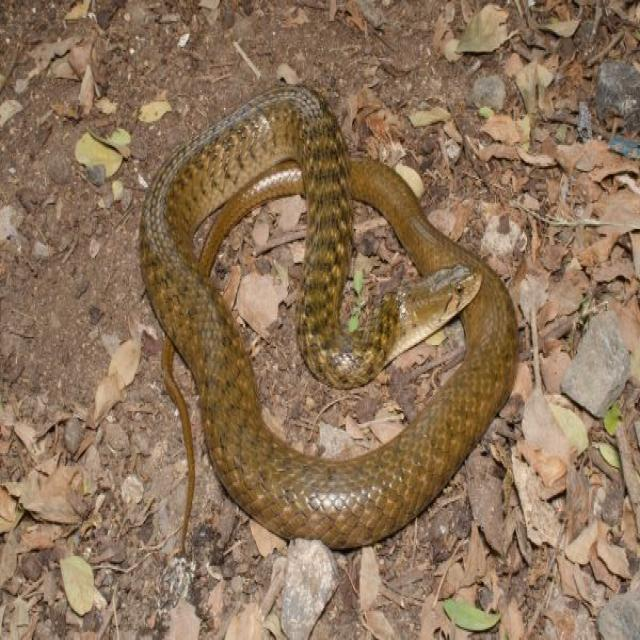Snake: (136, 82, 520, 555)
